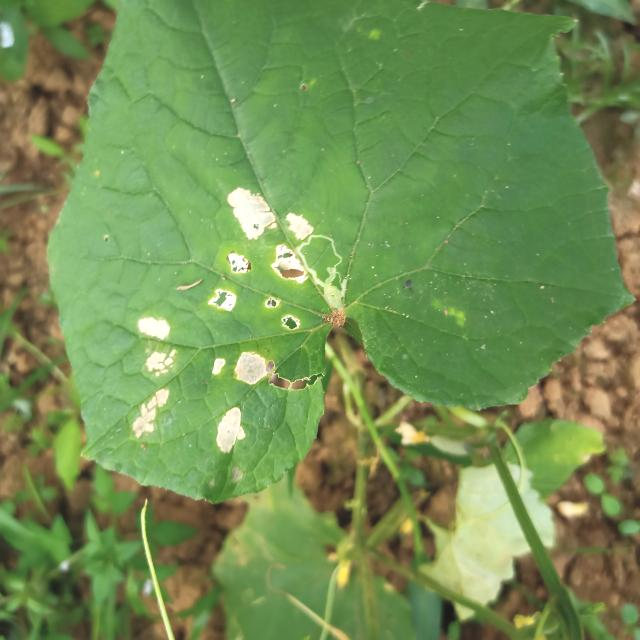disease_cucumber: (209, 179, 314, 452), (130, 313, 178, 436)
